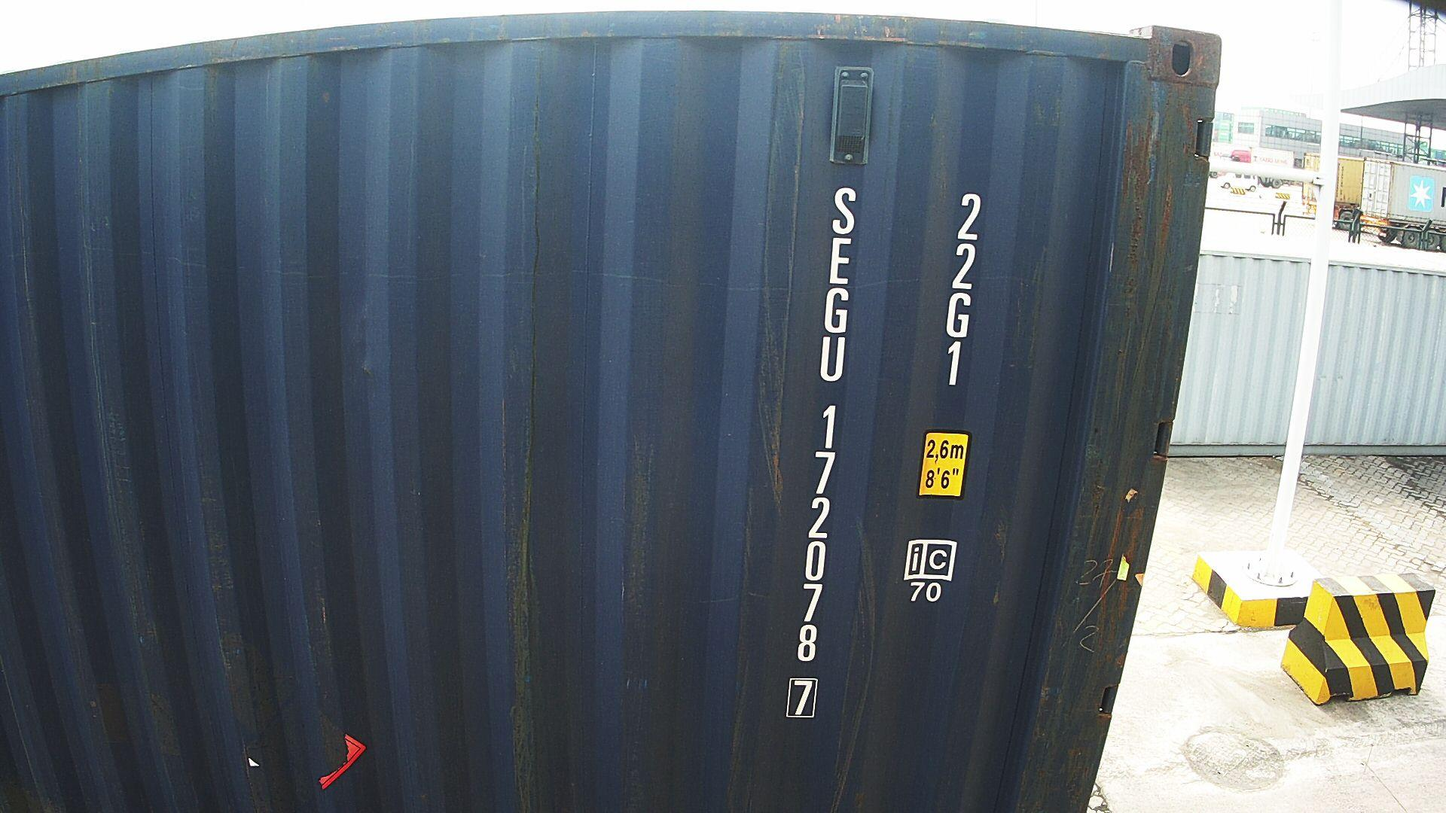container-numbers: (781, 183, 861, 722), (935, 188, 985, 393)
